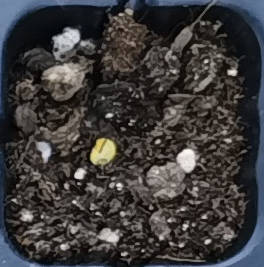chilli seed: (89, 137, 115, 165)
